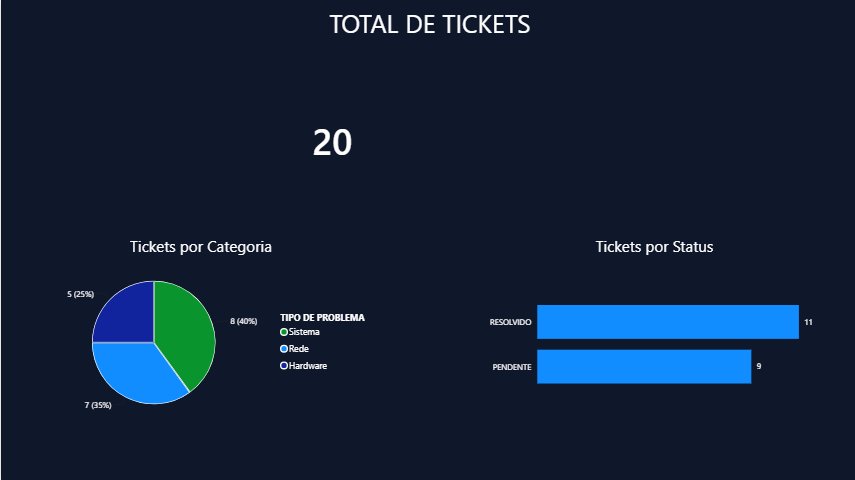

This screenshot's page, from the dashboard's own definition file:
{"tool":"powerbi","page":{"name":"Página 1","canvas":[1280,720],"ordinal":0},"visuals":[{"type":"barChart","title":"Tickets por Status","fields":{"Y":["CountNonNull(Planilha1.TÉCNICO)"],"Category":["Planilha1.STATUS"]},"box":[720,352,512,288],"z":0},{"type":"cardVisual","title":"TOTAL DE TICKETS","fields":{"Data":["CountNonNull(Planilha1.ID)"]},"box":[435.5,9,409,350.7],"z":1000},{"type":"pieChart","title":"Tickets por Categoria","fields":{"Y":["CountNonNull(Planilha1.ID)"],"Category":["Planilha1.TIPO_PROBLEMA"]},"box":[34.3,352,528.4,288.1],"z":2000}]}

Visuals, with their boxes in screenshot pixels (x1, y1, x2, y2), scaled from the page's 1280x720 canvas onto the 855x480 screenshot:
"Tickets por Status" barChart: Rect(481, 235, 823, 427)
"TOTAL DE TICKETS" cardVisual: Rect(291, 6, 564, 240)
"Tickets por Categoria" pieChart: Rect(23, 235, 376, 427)
